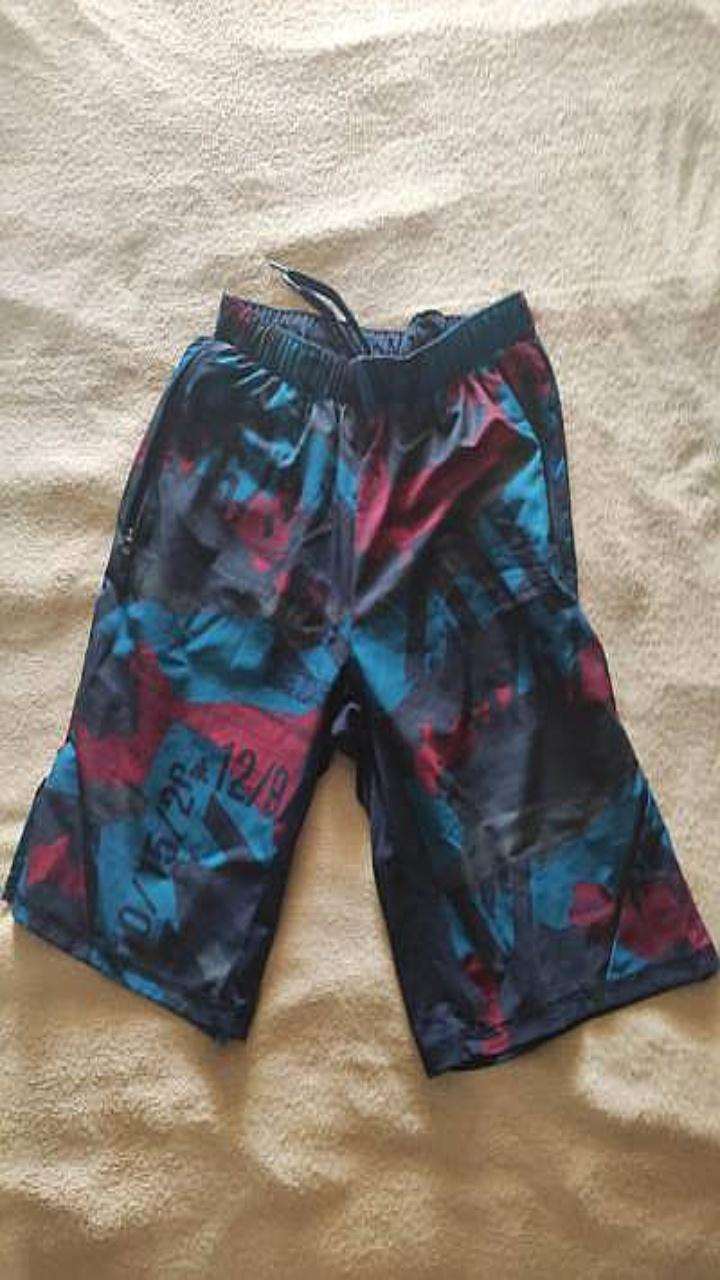Shorts: (3, 267, 718, 1075)
